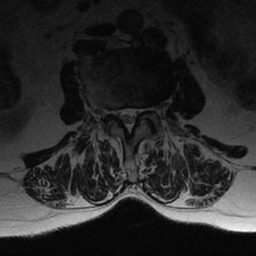CCS_normal: (124, 100, 132, 143)
LFS_severe_stenosis: (139, 97, 149, 121)
LLS_stenosis: (132, 98, 139, 128)
RFS_severe_stenosis: (107, 97, 115, 125)
RLS_normal: (115, 99, 124, 128)
